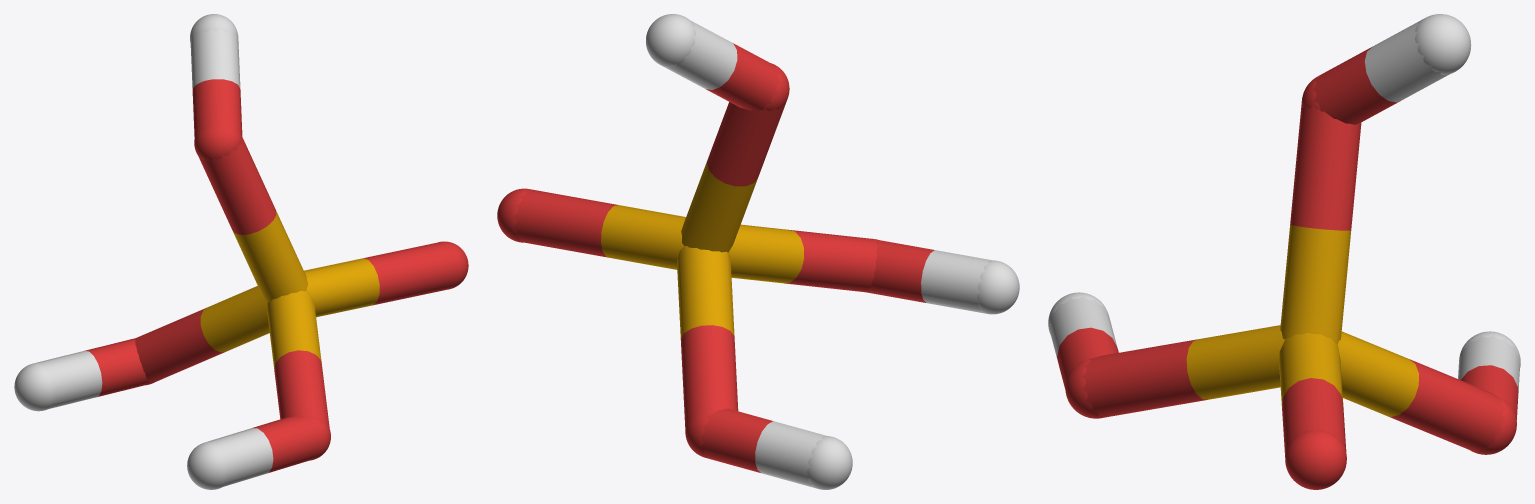
File: 1004-sticks-color-vis_NIH3D.glb
The picture shows the model from 3 angles, left to right: view 1: azimuth 30°, elevation 25°; view 2: azimuth 150°, elevation 25°; view 3: azimuth 270°, elevation 25°; orthographic projection. The views are drawn at different scales.
Parts seen in each view (by area): view 1: bonds, atoms; view 2: bonds, atoms; view 3: bonds, atoms.
Boxes of the visible parts, <box> form: bonds: <box>36,27,456,487</box>; atoms: <box>14,14,468,489</box>; bonds: <box>512,20,995,488</box>; atoms: <box>497,14,1019,489</box>; bonds: <box>1048,19,1520,457</box>; atoms: <box>1048,14,1520,489</box>.
Size of the model in its own units: 3.62 by 3.36 by 3.06.
